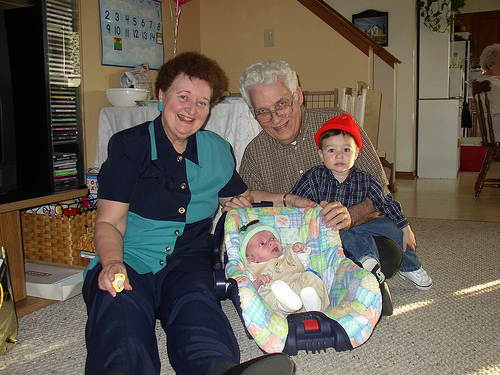without_mask: (160, 64, 217, 141), (245, 78, 306, 143), (314, 126, 367, 175), (236, 219, 286, 265)
